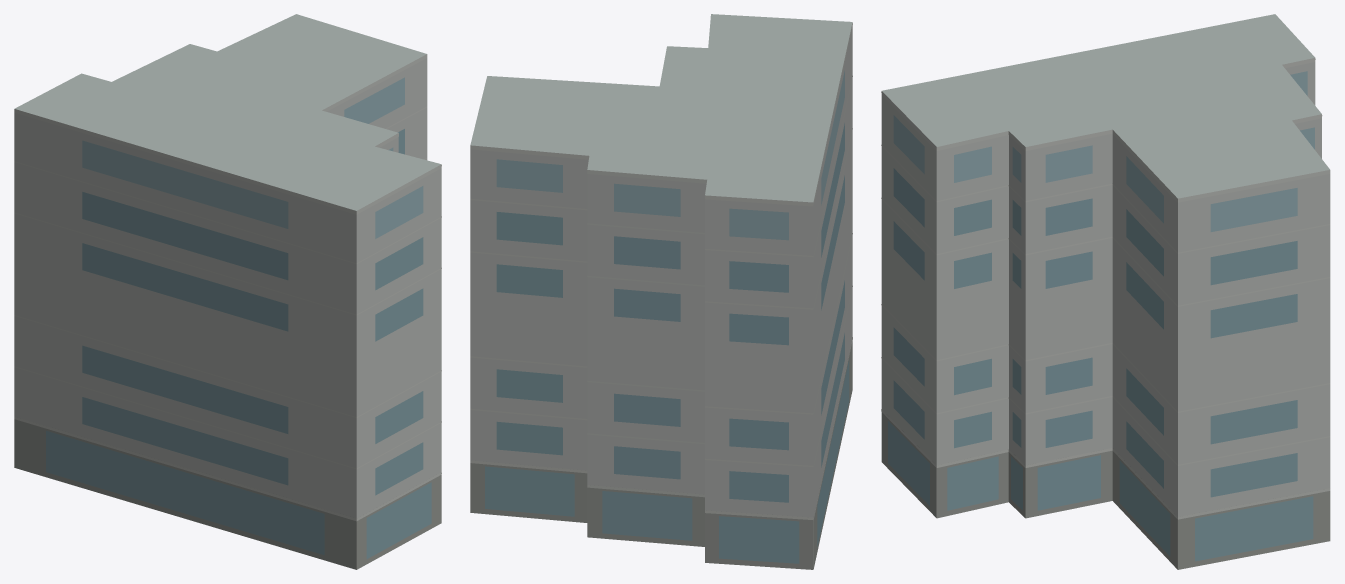
The model's file is survey-upis-33028035.glb.
3 renders of one model, left to right at view 1: azimuth 30°, elevation 25°; view 2: azimuth 150°, elevation 25°; view 3: azimuth 270°, elevation 25°, orthographic. The views are drawn at different scales.
Parts seen in each view (by area): view 1: survey-upis-33028035.tmp; view 2: survey-upis-33028035.tmp; view 3: survey-upis-33028035.tmp.
Part boxes in pixels (bbox=[...]): survey-upis-33028035.tmp: bbox=[14, 14, 441, 569]; survey-upis-33028035.tmp: bbox=[470, 14, 852, 569]; survey-upis-33028035.tmp: bbox=[881, 14, 1330, 569].
Bounding box in the file's own units: 23.6 × 22.11 × 24.24.
